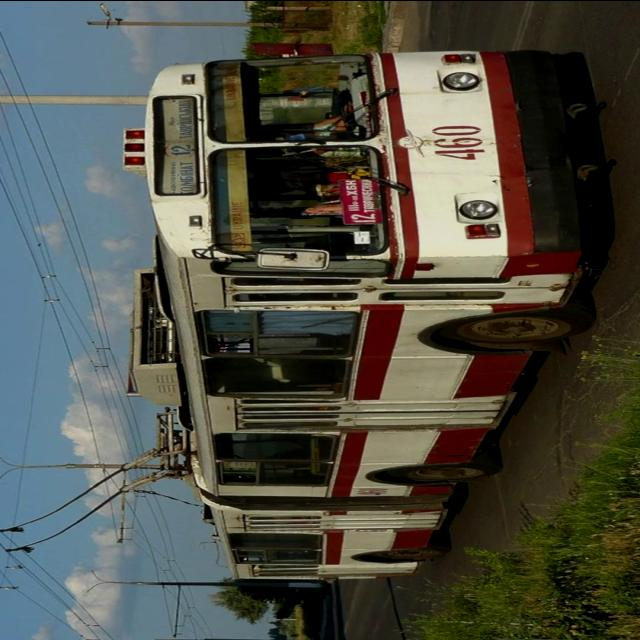bus: (116, 44, 640, 586)
